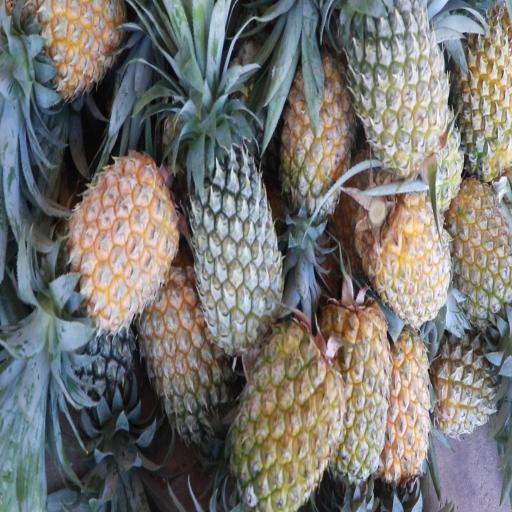------------------------------: (351, 0, 443, 170), (134, 283, 223, 442), (447, 19, 512, 175), (444, 182, 512, 316), (426, 330, 502, 438)
Pineapple - v8 v1: (234, 330, 340, 512), (73, 152, 175, 318), (320, 304, 388, 483), (273, 60, 348, 221), (369, 187, 447, 328), (21, 0, 122, 100), (384, 331, 431, 486)
